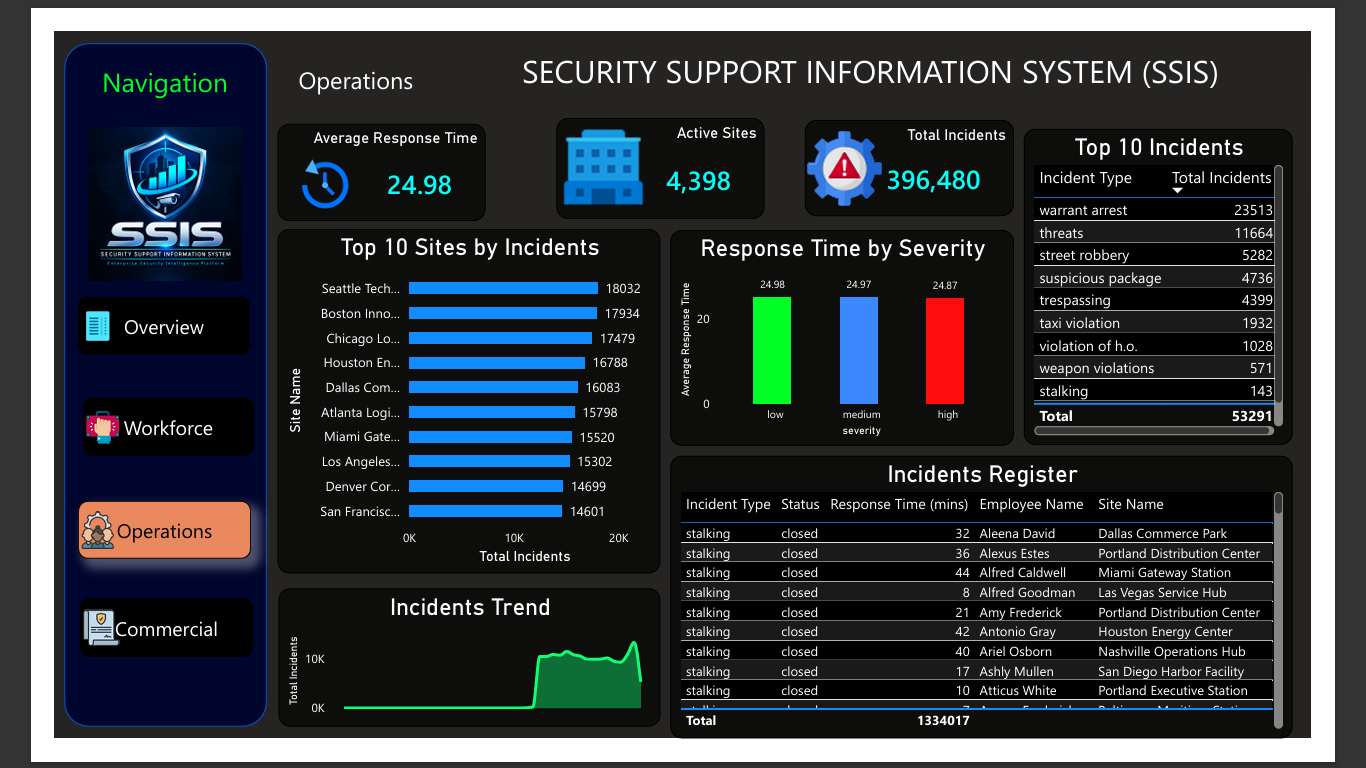

The dashboard page shown, as its layout file describes it:
{"tool":"powerbi","page":{"name":"Operations","canvas":[1280,720],"ordinal":2},"visuals":[{"type":"textbox","box":[401.1,11.8,859.6,64.7],"z":0},{"type":"shape","box":[10.3,11.8,205.7,696.5],"z":1000},{"type":"textbox","box":[29.4,27.9,173.4,48.5],"z":2000},{"type":"actionButton","box":[23.5,477.6,175.6,58.9],"z":2000,"group":"g1"},{"type":"actionButton","box":[29.4,373.2,174.1,58.9],"z":3000,"group":"g2"},{"type":"group","id":"g1","title":"Group 1","box":[23.5,477.6,174.9,58.8],"z":3000},{"type":"actionButton","box":[26.4,577.5,176.3,60.2],"z":3000,"group":"g7"},{"type":"group","id":"g2","title":"Group 2","box":[29.4,373.2,173.4,58.8],"z":4000},{"type":"image","box":[29.3,577.5,36.7,60.2],"z":4000,"group":"g7"},{"type":"group","id":"g3","title":"Group 3","box":[23.5,270.4,174.9,58.8],"z":5000},{"type":"actionButton","box":[23.5,270.4,174.9,58.8],"z":5000,"group":"g3"},{"type":"tableEx","title":"Top 10 Incidents","fields":{"Values":["ssis incident.incident_type","CountNonNull(ssis incident.incident_type)"]},"box":[986.8,99.1,273.9,322.1],"z":6000},{"type":"clusteredBarChart","title":"Top 10 Sites by Incidents","fields":{"Category":["ssis site.site_name"],"Y":["CountNonNull(ssis incident.incident_type)"]},"box":[227.1,200.9,389.5,351],"z":7000},{"type":"cardVisual","title":"Average Response Time","fields":{"Data":["ssis incident.Average Response Time"]},"box":[227.1,93.6,212.3,99.5],"z":8000,"group":"g4"},{"type":"clusteredColumnChart","title":"Response Time by Severity","fields":{"Category":["ssis incident.severity"],"Y":["Avg(ssis incident.response_time_minutes)"]},"box":[627.1,201.6,349.5,219.9],"z":8000},{"type":"image","box":[24.8,477.6,38,58.9],"z":8000,"group":"g1"},{"type":"cardVisual","title":"Total Incidents","fields":{"Data":["ssis incident.Total Incidents"]},"box":[764.1,89.6,213.1,98.4],"z":9000,"group":"g6"},{"type":"image","box":[30.7,373.2,37.7,58.9],"z":9000,"group":"g2"},{"type":"lineChart","title":"Incidents Trend","fields":{"Y":["CountNonNull(ssis incident.incident_type)"],"Category":["ssis incident.incident_datetime.Variation.Date Hierarchy.Year","ssis incident.incident_datetime.Variation.Date Hierarchy.Quarter","ssis incident.incident_datetime.Variation.Date Hierarchy.Month","ssis incident.incident_datetime.Variation.Date Hierarchy.Day"]},"box":[227.8,566.8,388.8,141.4],"z":9000},{"type":"cardVisual","title":"Active Sites","fields":{"Data":["ssis site.Active Sites"]},"box":[511.3,88.2,211.6,102.9],"z":10000,"group":"g5"},{"type":"image","box":[24.8,270.4,37.8,58.8],"z":10000,"group":"g3"},{"type":"tableEx","title":"Incidents Register","fields":{"Values":["ssis incident.incident_type","ssis incident.status","Sum(ssis incident.response_time_minutes)","ssis employee.employee_name","ssis site.site_name"]},"box":[627.1,432,633.6,288],"z":10000},{"type":"textbox","box":[227.8,27.9,158.7,48.5],"z":11000},{"type":"group","id":"g4","title":"Group 4","box":[227.1,93.6,212.3,99.5],"z":12000},{"type":"group","id":"g5","title":"Group 5","box":[511.3,88.2,211.6,102.9],"z":13000},{"type":"group","id":"g6","title":"Group 6","box":[764.1,89.6,213.1,98.4],"z":14000},{"type":"group","id":"g7","title":"Group 7","box":[26.4,577.5,176.3,60.2],"z":15000},{"type":"image","box":[227.8,124.9,95.5,63.2],"z":15002,"group":"g4"},{"type":"image","box":[764.1,89.6,80.8,98.4],"z":15003,"group":"g6"},{"type":"image","box":[511.3,88.2,95.5,99.9],"z":15004,"group":"g5"},{"type":"image","box":[22,98.4,180.7,155.8],"z":16000}]}

Visuals, with their boxes in screenshot pixels (x1, y1, x2, y2), scaled from the page's 1280x720 canvas onto the 1366x768 screenshot:
textbox: 428, 13, 1345, 82
shape: 11, 13, 231, 756
textbox: 31, 30, 216, 81
actionButton: 25, 509, 212, 572
actionButton: 31, 398, 217, 461
"Group 1" group: 25, 509, 212, 572
actionButton: 28, 616, 216, 680
"Group 2" group: 31, 398, 216, 461
image: 31, 616, 70, 680
"Group 3" group: 25, 288, 212, 351
actionButton: 25, 288, 212, 351
"Top 10 Incidents" tableEx: 1053, 106, 1345, 449
"Top 10 Sites by Incidents" clusteredBarChart: 242, 214, 658, 589
"Average Response Time" cardVisual: 242, 100, 469, 206
"Response Time by Severity" clusteredColumnChart: 669, 215, 1042, 450
image: 26, 509, 67, 572
"Total Incidents" cardVisual: 815, 96, 1043, 201
image: 33, 398, 73, 461
"Incidents Trend" lineChart: 243, 605, 658, 755
"Active Sites" cardVisual: 546, 94, 771, 204
image: 26, 288, 67, 351
"Incidents Register" tableEx: 669, 461, 1345, 767
textbox: 243, 30, 412, 81
"Group 4" group: 242, 100, 469, 206
"Group 5" group: 546, 94, 771, 204
"Group 6" group: 815, 96, 1043, 201
"Group 7" group: 28, 616, 216, 680
image: 243, 133, 345, 201
image: 815, 96, 902, 201
image: 546, 94, 648, 201
image: 23, 105, 216, 271
